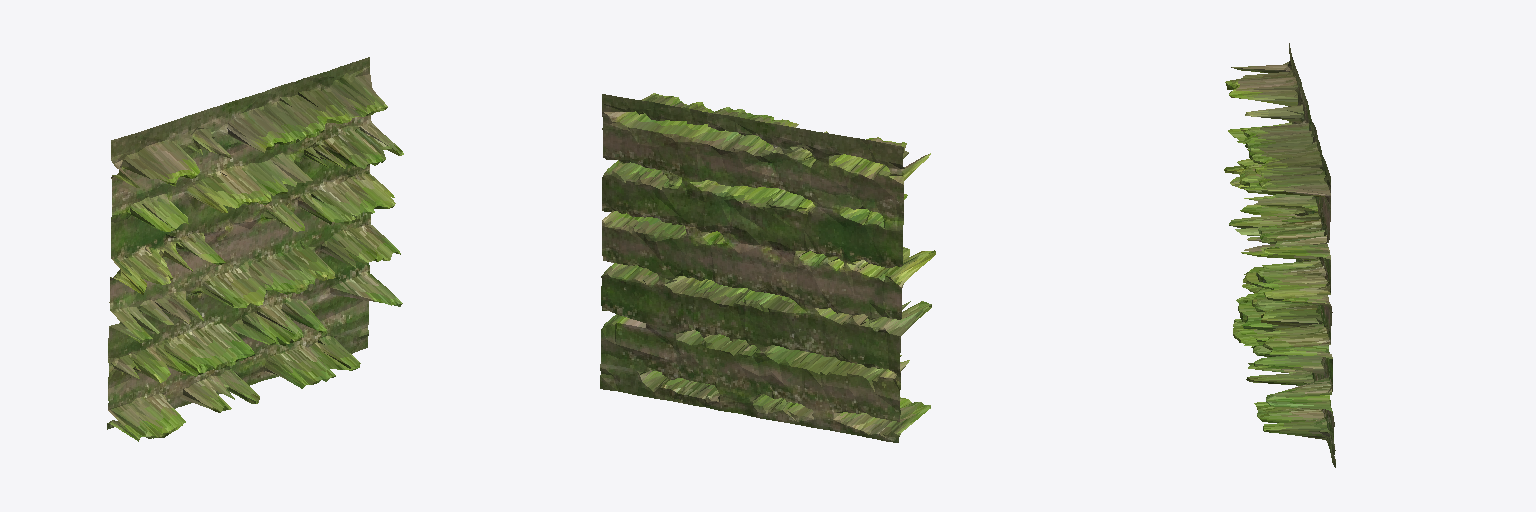
3 views of the same model, side by side, from view 1: azimuth 30°, elevation 25°; view 2: azimuth 150°, elevation 25°; view 3: azimuth 270°, elevation 25° (orthographic).
Parts seen in each view (by area): view 1: grp1; view 2: grp1; view 3: grp1.
Part boxes in pixels (left/top/right/bottom): grp1: left=107, top=57, right=403, bottom=441; grp1: left=600, top=93, right=935, bottom=442; grp1: left=1224, top=43, right=1335, bottom=467.
Size of the model in its own units: 10 by 10 by 3.48.
Materials: 1 (1 with a texture image).